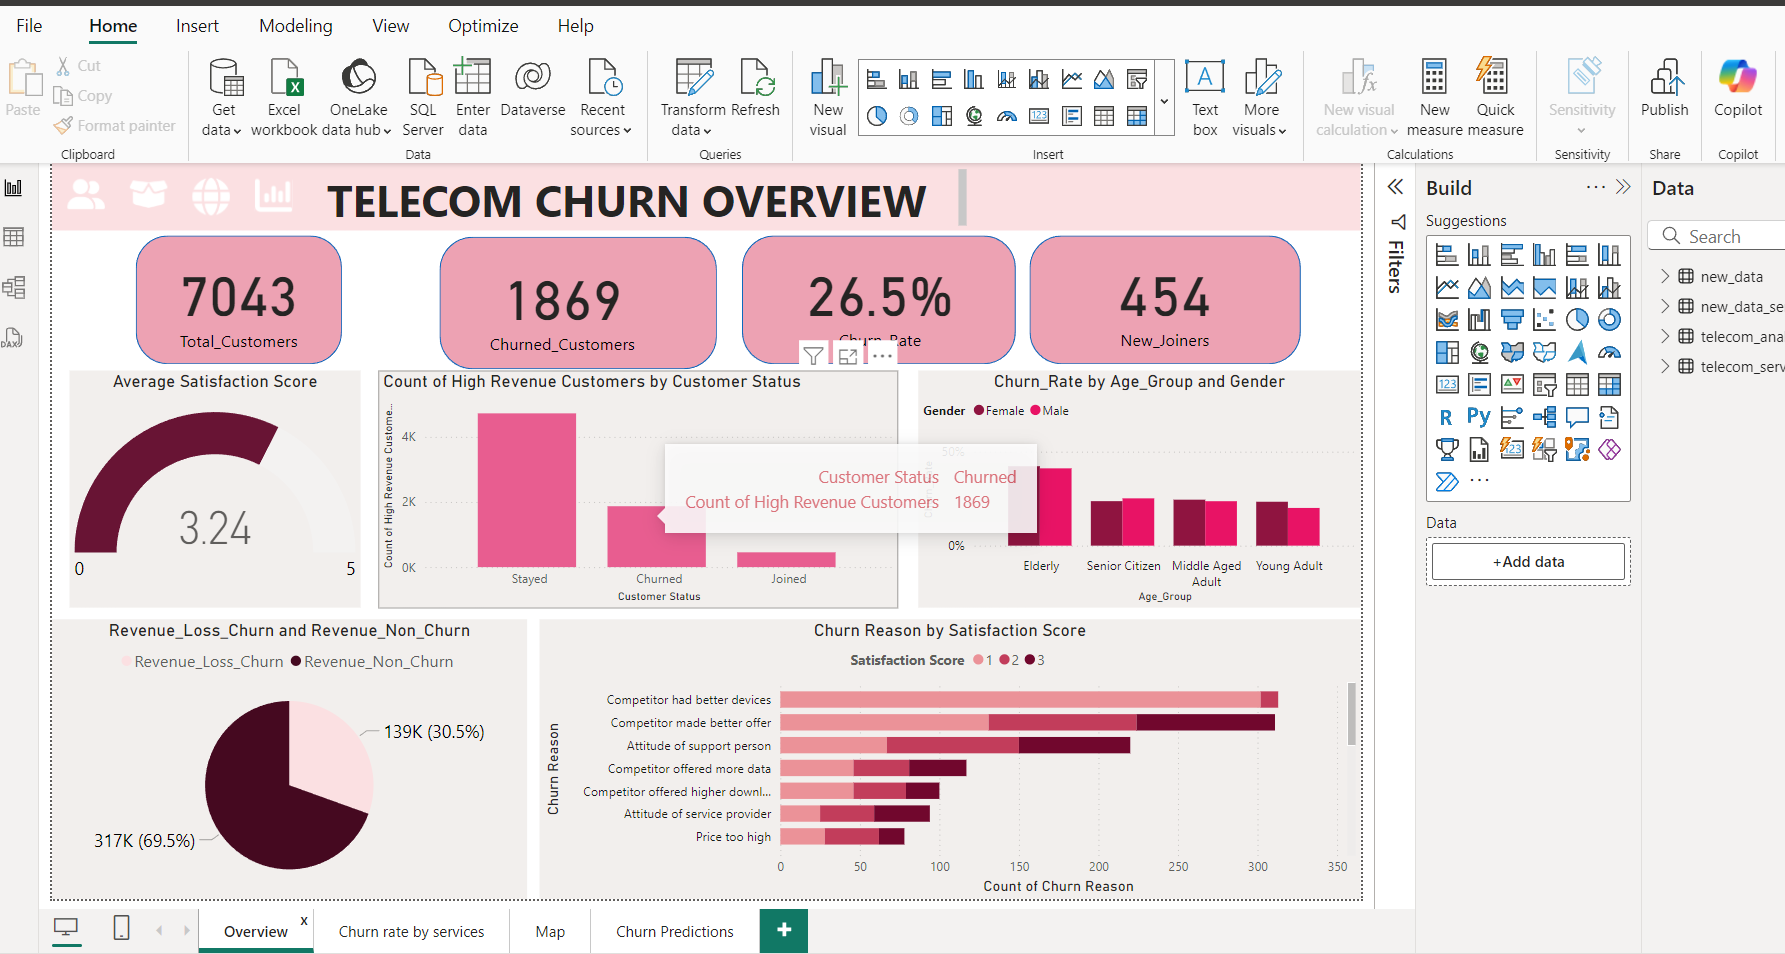

The dashboard page shown, as its layout file describes it:
{"tool":"powerbi","page":{"name":"Overview","canvas":[1280,720],"ordinal":0},"visuals":[{"type":"shape","box":[0,0,1280.3,66],"z":0},{"type":"actionButton","box":[11.5,4.3,44.7,50.5],"z":0,"group":"g2"},{"type":"shape","box":[82,70.4,201.8,126],"z":0,"group":"g1"},{"type":"actionButton","box":[72.6,4.3,44.7,50.5],"z":1000,"group":"g2"},{"type":"card","fields":{"Values":["telecom_analysis.Total_Customers"]},"box":[97.9,66.7,170,135.7],"z":1000,"group":"g1"},{"type":"shape","box":[379.1,72.1,271.5,129.6],"z":1000},{"type":"actionButton","box":[194.7,5.7,44.7,50.5],"z":2000,"group":"g2"},{"type":"group","id":"g1","title":"TOTAL CUSTOMERS","box":[82,66.7,200.5,135.6],"z":2000},{"type":"actionButton","box":[133.7,7.2,44.7,50.5],"z":3000,"group":"g2"},{"type":"shape","box":[956.3,70.9,265.4,126],"z":3000},{"type":"card","fields":{"Values":["telecom_analysis.New_Joiners"]},"box":[999.1,79.5,179.8,110.1],"z":4000},{"type":"card","fields":{"Values":["telecom_analysis.Churned_Customers"]},"box":[410.9,73.4,177.3,129.6],"z":5000},{"type":"shape","box":[675,70.9,267.8,126],"z":6000},{"type":"card","fields":{"Values":["telecom_analysis.Churn_Rate"]},"box":[720.2,77,179.8,114.9],"z":7000},{"type":"pieChart","fields":{"Y":["telecom_analysis.Revenue_Loss_Churn","telecom_analysis.Revenue_Non_Churn"]},"box":[0,446.3,464.7,273.9],"z":8000},{"type":"columnChart","fields":{"Category":["telecom_analysis.Customer Status"],"Y":["CountNonNull(telecom_analysis.High Revenue Customers)"]},"box":[319.2,203,508.7,232.3],"z":9000},{"type":"gauge","title":"Average Satisfaction Score","fields":{"Y":["Avg(telecom_analysis.Satisfaction Score)"]},"box":[17.1,203,284.9,232.3],"z":10000},{"type":"barChart","title":"Churn Reason by  Satisfaction Score","fields":{"Category":["telecom_analysis.Churn Reason"],"Y":["CountNonNull(telecom_analysis.Churn Reason)"],"Series":["telecom_analysis.Satisfaction Score"]},"box":[476.9,446.3,803.4,273.9],"z":11000},{"type":"clusteredColumnChart","fields":{"Category":["telecom_analysis.Age_Group"],"Y":["telecom_analysis.Churn_Rate"],"Series":["telecom_analysis.Gender"]},"box":[847.4,203,432.9,232.3],"z":12000},{"type":"textbox","box":[232.3,1.2,667.7,66],"z":13000},{"type":"group","id":"g2","title":"Navigation buttons","box":[11.5,4.3,228,53.4],"z":14000}]}

Visuals, with their boxes on the page's 1280x720 design canvas (x1, y1, x2, y2). These are canvas units, not pixel positions in the 1785x954 screenshot, which may show the page scaled, cropped or inside an application window:
shape: [left=0, top=0, right=1280, bottom=66]
actionButton: [left=12, top=4, right=56, bottom=55]
shape: [left=82, top=70, right=284, bottom=196]
actionButton: [left=73, top=4, right=117, bottom=55]
card - telecom_analysis.Total_Customers: [left=98, top=67, right=268, bottom=202]
shape: [left=379, top=72, right=651, bottom=202]
actionButton: [left=195, top=6, right=239, bottom=56]
"TOTAL CUSTOMERS" group: [left=82, top=67, right=282, bottom=202]
actionButton: [left=134, top=7, right=178, bottom=58]
shape: [left=956, top=71, right=1222, bottom=197]
card - telecom_analysis.New_Joiners: [left=999, top=80, right=1179, bottom=190]
card - telecom_analysis.Churned_Customers: [left=411, top=73, right=588, bottom=203]
shape: [left=675, top=71, right=943, bottom=197]
card - telecom_analysis.Churn_Rate: [left=720, top=77, right=900, bottom=192]
pieChart - telecom_analysis.Revenue_Loss_Churn x telecom_analysis.Revenue_Non_Churn: [left=0, top=446, right=465, bottom=720]
columnChart - telecom_analysis.Customer Status x CountNonNull(telecom_analysis.High Revenue Customers): [left=319, top=203, right=828, bottom=435]
"Average Satisfaction Score" gauge: [left=17, top=203, right=302, bottom=435]
"Churn Reason by  Satisfaction Score" barChart: [left=477, top=446, right=1280, bottom=720]
clusteredColumnChart - telecom_analysis.Age_Group x telecom_analysis.Churn_Rate: [left=847, top=203, right=1280, bottom=435]
textbox: [left=232, top=1, right=900, bottom=67]
"Navigation buttons" group: [left=12, top=4, right=240, bottom=58]
